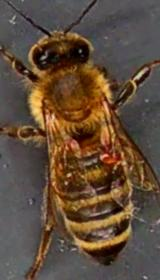varroa_mite: (94, 145, 122, 166)
